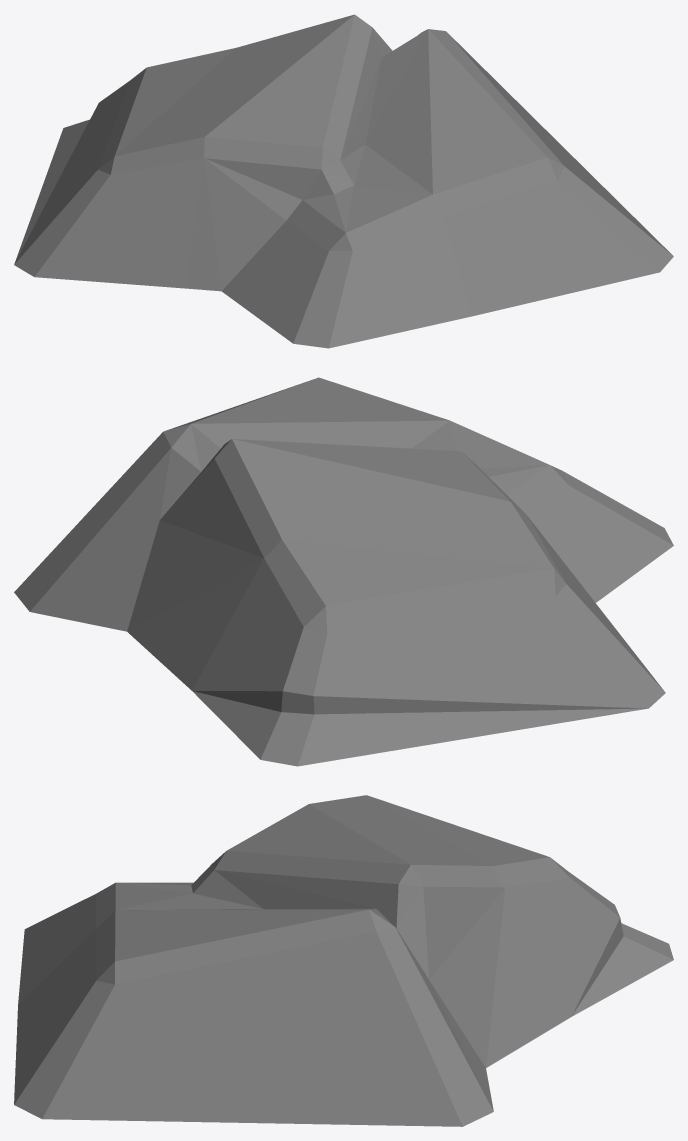
The model's file is model_polytope_rock_medium01.fbx.
3 views of the same model, one above another, from view 1: azimuth 30°, elevation 25°; view 2: azimuth 150°, elevation 25°; view 3: azimuth 270°, elevation 25° (orthographic). The views are drawn at different scales.
Visible parts, largest first — view 1: model_polytope_rock_medium01; view 2: model_polytope_rock_medium01; view 3: model_polytope_rock_medium01.
Boxes of the visible parts, x1=… form: model_polytope_rock_medium01: x1=14, y1=14, x2=673, y2=348; model_polytope_rock_medium01: x1=14, y1=377, x2=673, y2=766; model_polytope_rock_medium01: x1=14, y1=795, x2=673, y2=1126.
Size of the model in its own units: 1163 by 336 by 1165.
